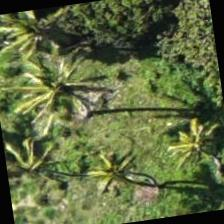Kelapa_Sawit: (58, 126, 161, 223), (146, 94, 223, 195), (0, 3, 89, 80), (0, 39, 57, 137)
